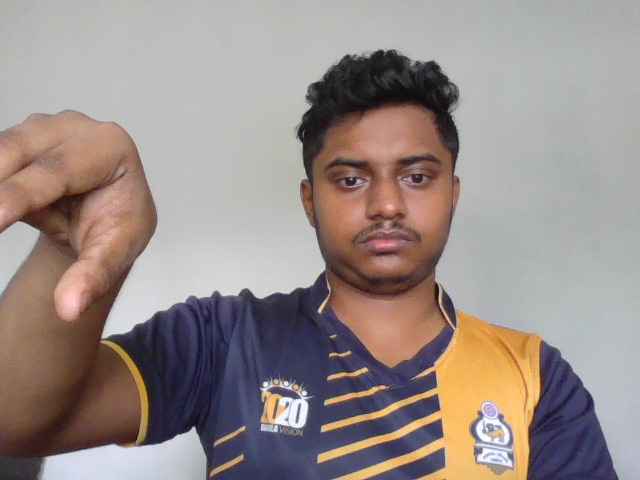No: (1, 109, 160, 322)
